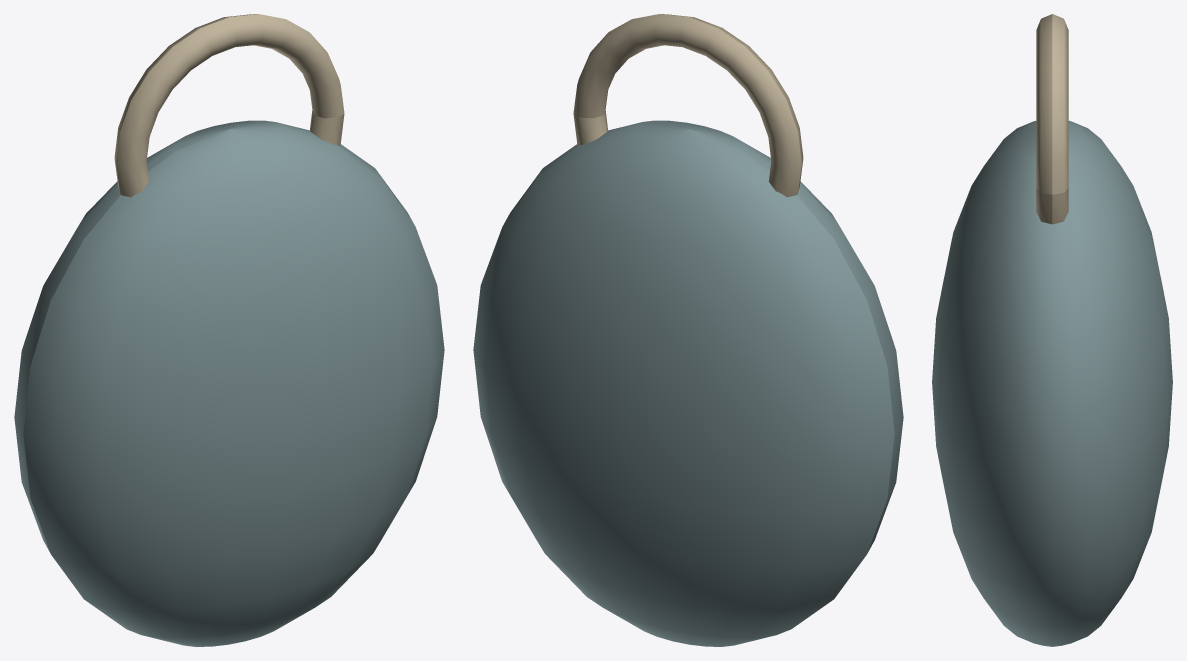
File: disney-fox-charm.glb
3 views of the same model, side by side, from view 1: azimuth 30°, elevation 25°; view 2: azimuth 150°, elevation 25°; view 3: azimuth 270°, elevation 25° (orthographic). The views are drawn at different scales.
Visible parts, largest first — view 1: PublicNeutral_Pendant, PublicNeutral_PendantRing; view 2: PublicNeutral_Pendant, PublicNeutral_PendantRing; view 3: PublicNeutral_Pendant, PublicNeutral_PendantRing.
Boxes of the visible parts, box(x1,y1,x2,y2) form: PublicNeutral_Pendant: box(14, 120, 444, 646); PublicNeutral_PendantRing: box(114, 14, 344, 197); PublicNeutral_Pendant: box(473, 120, 903, 646); PublicNeutral_PendantRing: box(573, 14, 803, 197); PublicNeutral_Pendant: box(932, 121, 1172, 646); PublicNeutral_PendantRing: box(1036, 14, 1068, 224).
Bounding box in the file's own units: 0.0989 × 0.1424 × 0.0514.
